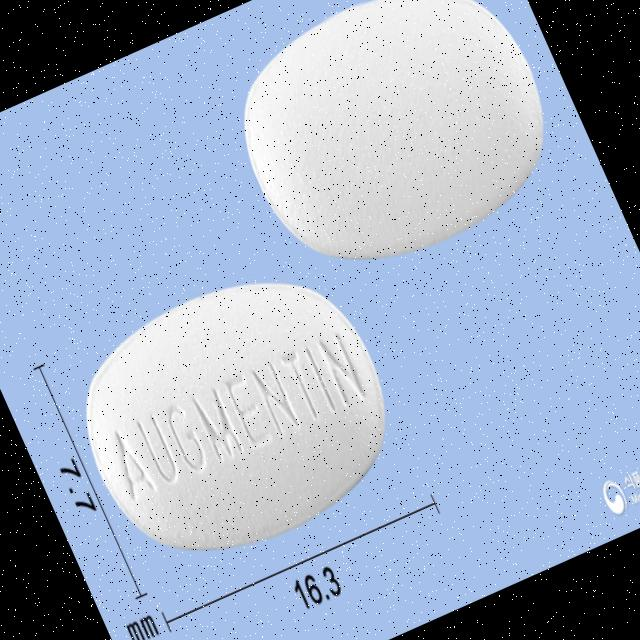Augmentin: (50, 240, 425, 594), (204, 0, 585, 307)
